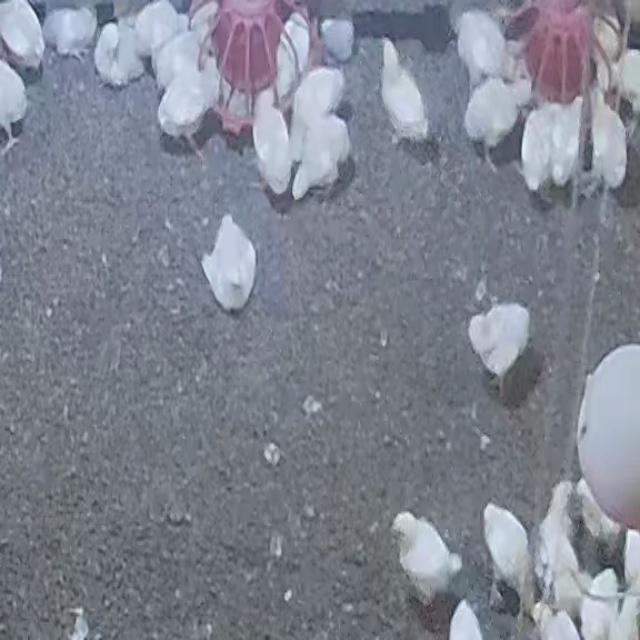chicken: (459, 76, 534, 169), (155, 60, 219, 165), (519, 98, 583, 195), (468, 302, 532, 398), (200, 212, 258, 316), (379, 34, 430, 152), (482, 501, 534, 615), (290, 113, 353, 205), (250, 92, 294, 199), (454, 8, 508, 91), (585, 90, 627, 192), (92, 19, 148, 88), (272, 8, 312, 98), (132, 0, 184, 62), (41, 6, 96, 60)
